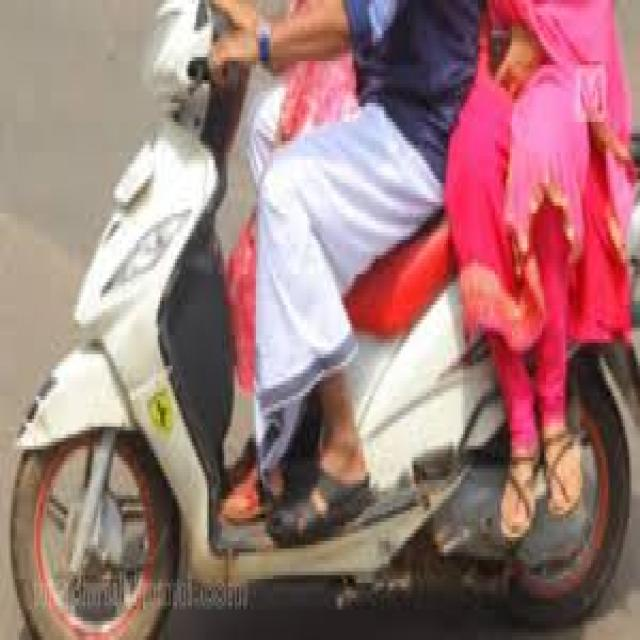Triple_riding: (247, 0, 640, 531)
motorcycle: (17, 4, 640, 640)
